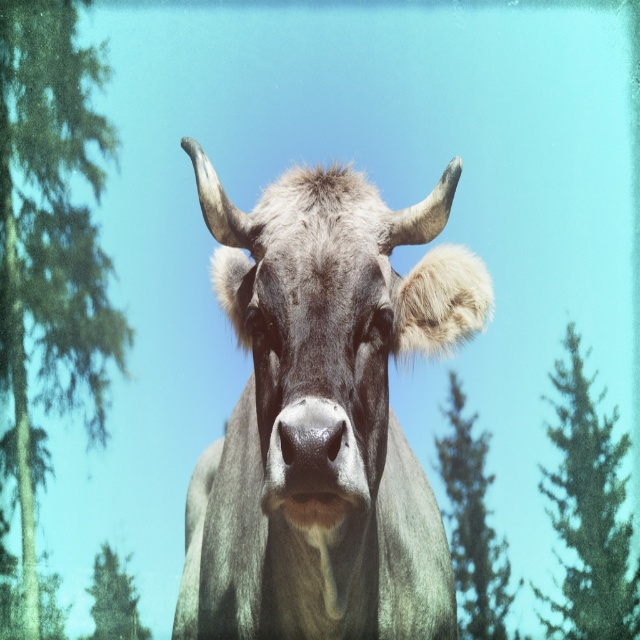Cattle: (185, 136, 493, 636)
